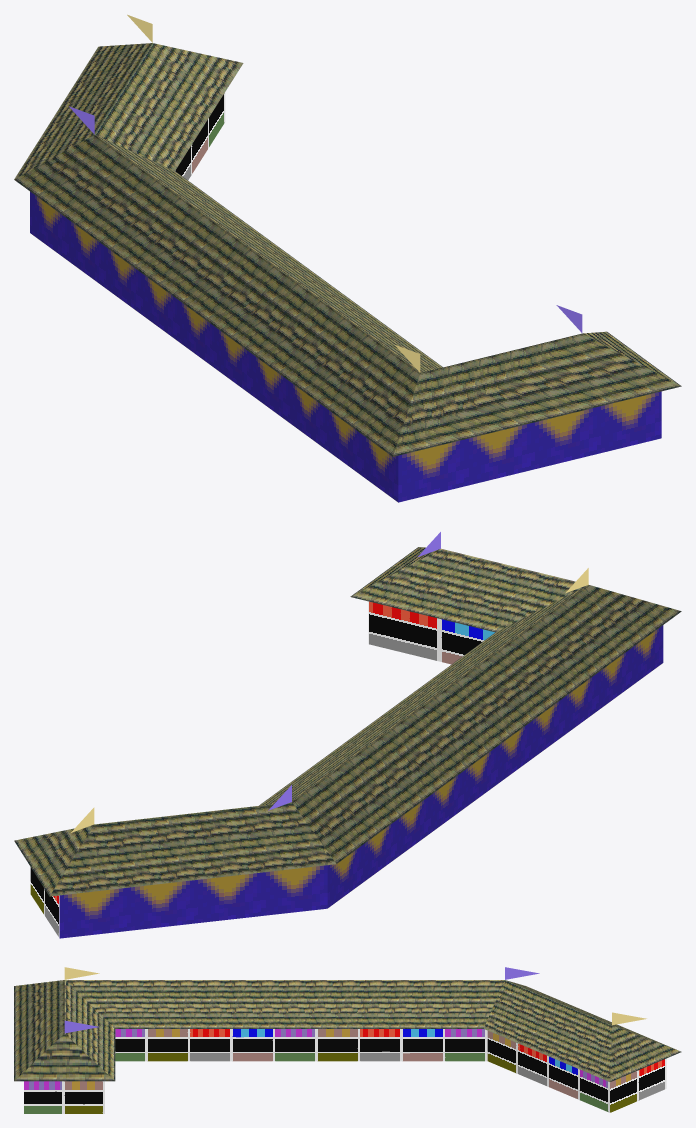
File: uvmd-0014.glb
The picture shows the model from 3 angles, top to bottom: view 1: azimuth 30°, elevation 25°; view 2: azimuth 150°, elevation 25°; view 3: azimuth 270°, elevation 25°; orthographic projection. The views are drawn at different scales.
Visible parts, largest first — view 1: uvmd-0014; view 2: uvmd-0014; view 3: uvmd-0014.
Boxes of the visible parts, x1,y1,x2,y2 form: uvmd-0014: (14,14,681,502); uvmd-0014: (14,532,681,938); uvmd-0014: (14,967,681,1113).
Size of the model in its own units: 225 by 84 by 660.
Materials: 4 (4 with a texture image).
